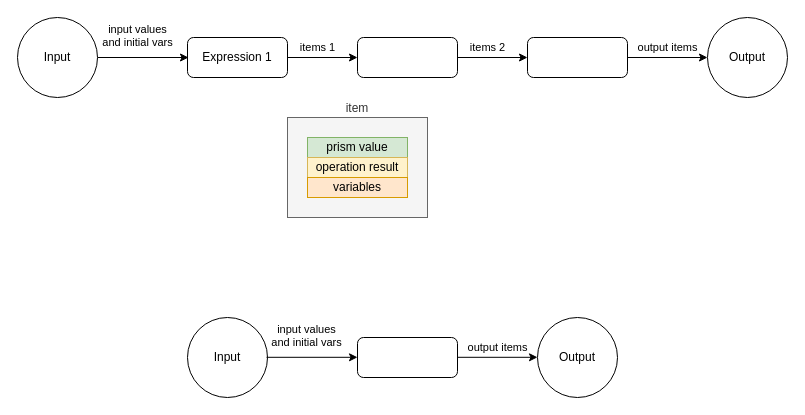
The diagram is 805 pixels wide and 415 high, and some of its shapes have lost their labels. The centre of each missing label's shape, as x and y in pixels:
Expression: the point at 407,357
Expression 2: the point at 407,57
Expression 3: the point at 577,57
